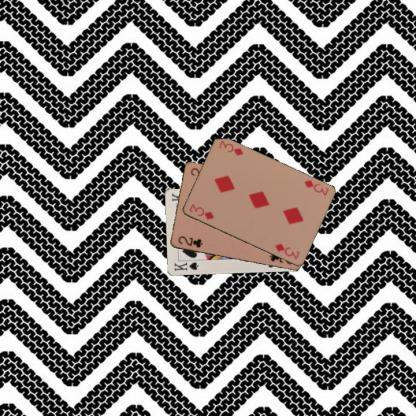2c: (176, 233, 203, 249)
3d: (301, 177, 330, 197), (187, 201, 215, 221)
Ks: (172, 260, 199, 272)
